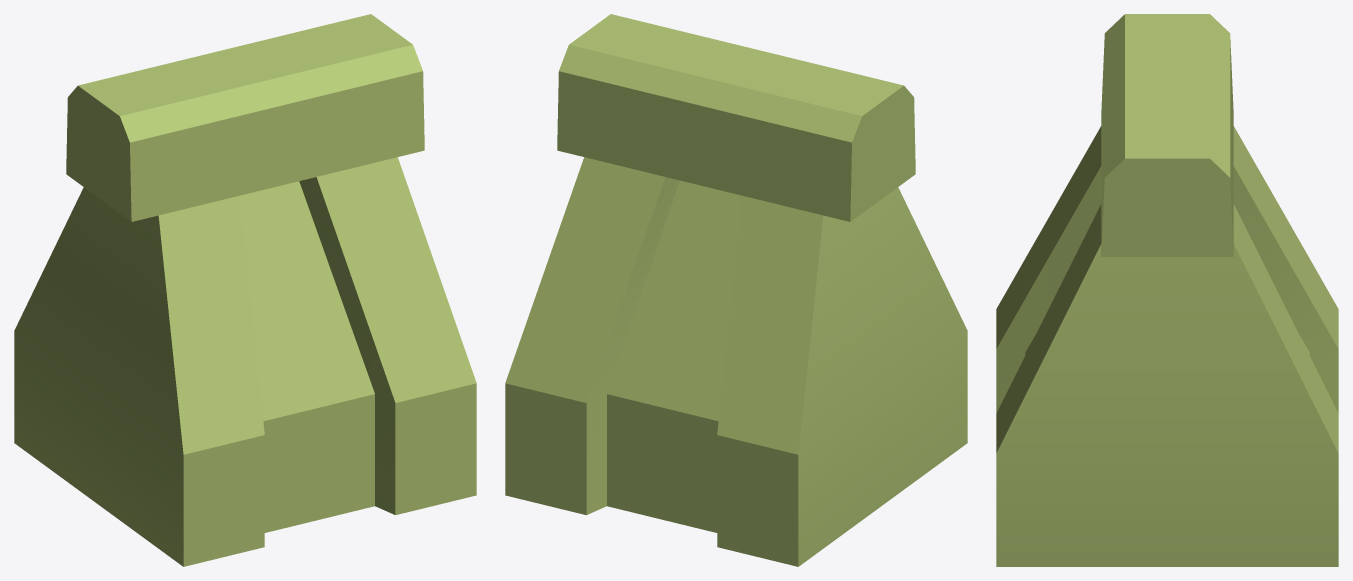
Rendered from stop.glb.
3 renders of one model, left to right at view 1: azimuth 30°, elevation 25°; view 2: azimuth 150°, elevation 25°; view 3: azimuth 270°, elevation 25°, orthographic.
Parts seen in each view (by area): view 1: stop; view 2: stop; view 3: stop.
Boxes of the visible parts, x1,y1,x2,y2 form: stop: (14,14,476,566); stop: (505,14,967,566); stop: (996,14,1338,566).
Bounding box in the file's own units: 0.9 × 1.19 × 0.9.
